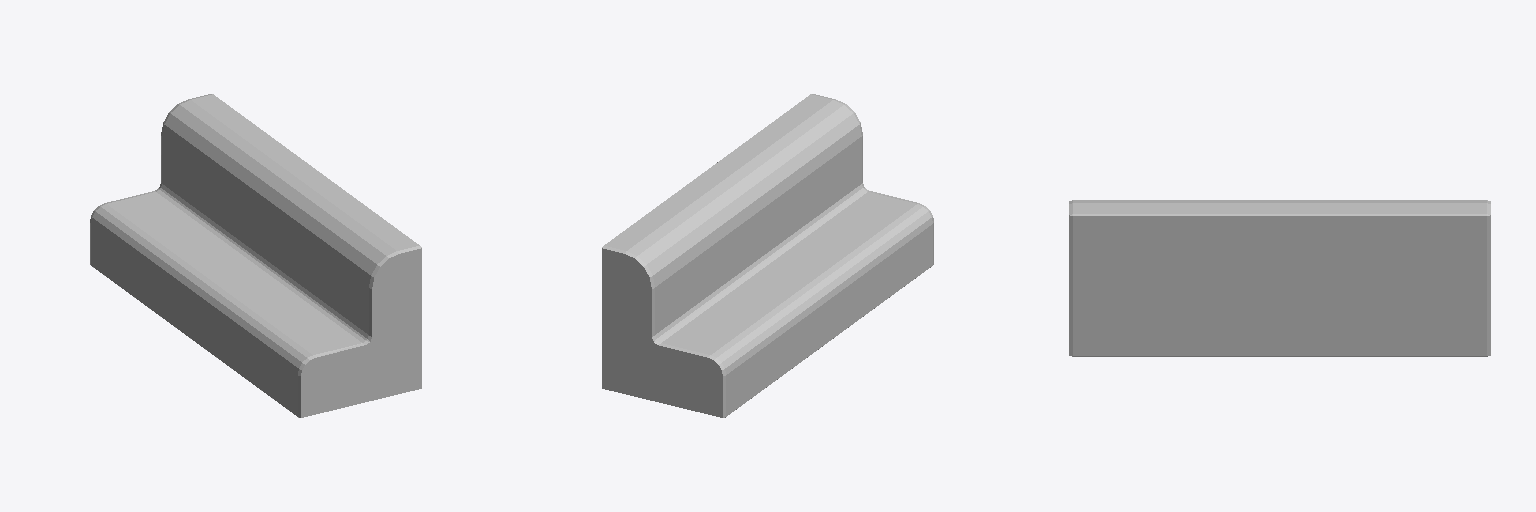
The model's file is seat_10.obj.
The picture shows the model from 3 angles: view 1: azimuth 30°, elevation 25°; view 2: azimuth 150°, elevation 25°; view 3: azimuth 270°, elevation 25°; orthographic projection.
Parts seen in each view (by area): view 1: Cadeira1.009_Cube.009; view 2: Cadeira1.009_Cube.009; view 3: Cadeira1.009_Cube.009.
Boxes of the visible parts, x1,y1,x2,y2 form: Cadeira1.009_Cube.009: [90, 94, 421, 417]; Cadeira1.009_Cube.009: [602, 94, 933, 417]; Cadeira1.009_Cube.009: [1069, 200, 1490, 356].
Size of the model in its own units: 1.09 by 1.2 by 3.23.